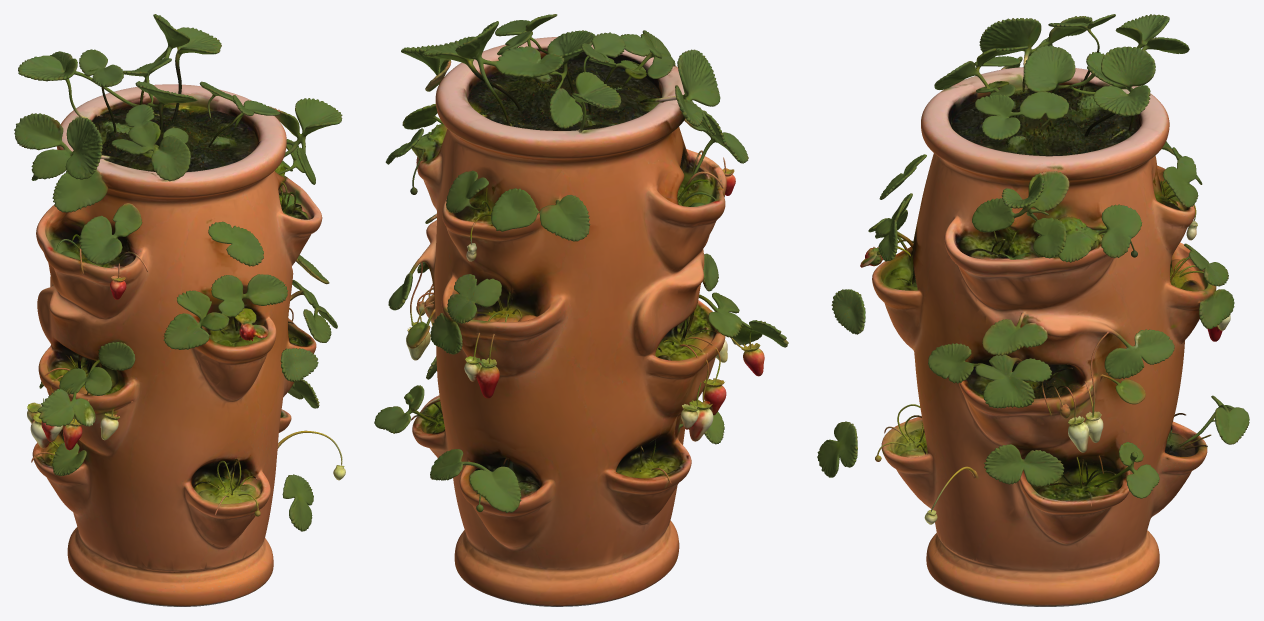
The model's file is strawberry_pot.glb.
3 views of the same model, side by side, from view 1: azimuth 30°, elevation 25°; view 2: azimuth 150°, elevation 25°; view 3: azimuth 270°, elevation 25° (orthographic). The views are drawn at different scales.
Parts seen in each view (by area): view 1: node_0; view 2: node_0; view 3: node_0.
Part boxes in pixels (x1=…): node_0: x1=14, y1=14, x2=345, y2=606; node_0: x1=374, y1=14, x2=788, y2=606; node_0: x1=817, y1=14, x2=1249, y2=606.
Size of the model in its own units: 0.7454 by 1.11 by 0.8149.
Materials: 1 (1 with a texture image).
